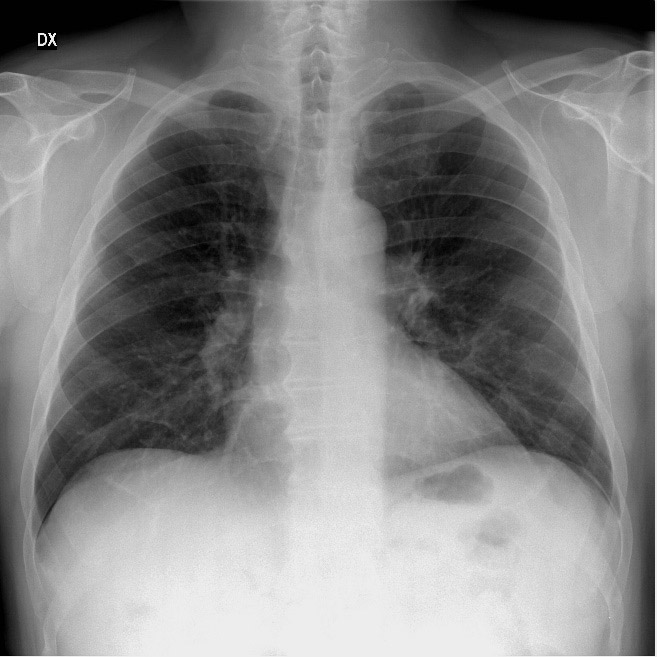Mildw: (353, 79, 619, 507), (30, 95, 288, 536)
